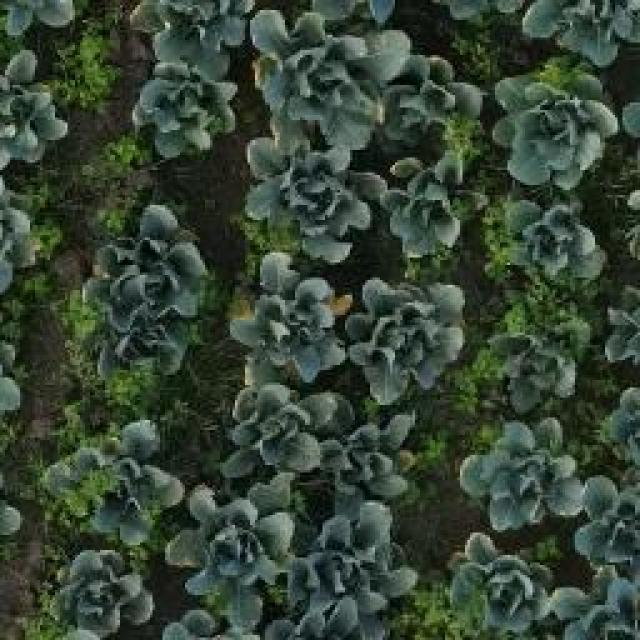cabbage: (251, 13, 385, 132), (254, 128, 380, 247), (54, 424, 183, 538), (493, 62, 605, 180), (230, 252, 342, 370), (458, 415, 568, 533), (176, 484, 297, 588), (350, 280, 465, 389), (95, 206, 202, 312), (452, 536, 557, 634), (49, 544, 156, 640), (226, 377, 329, 475), (385, 146, 478, 252), (136, 66, 238, 162), (384, 48, 484, 142), (504, 193, 608, 280), (299, 518, 411, 597), (0, 51, 71, 175), (494, 308, 581, 408), (94, 310, 190, 392), (125, 0, 253, 61), (517, 0, 640, 62), (326, 415, 412, 500), (572, 476, 640, 567), (555, 568, 640, 640)
